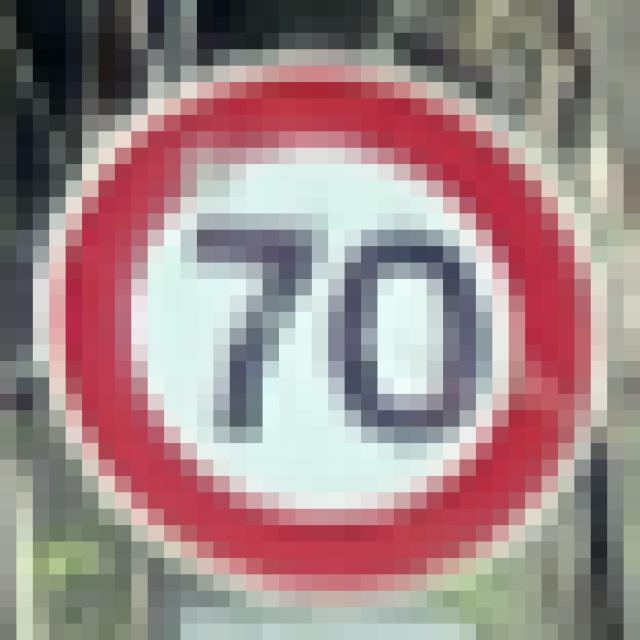speed_70: (3, 3, 638, 640)
